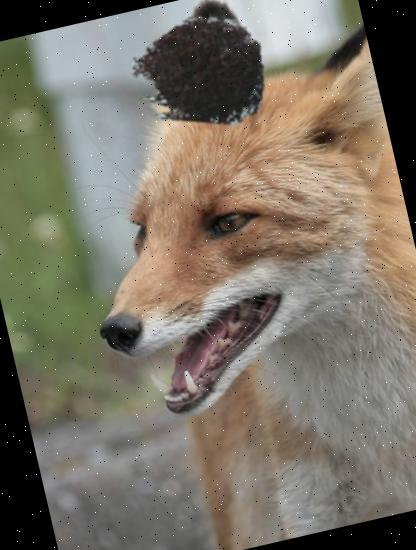Rambutan: (117, 0, 281, 148)
